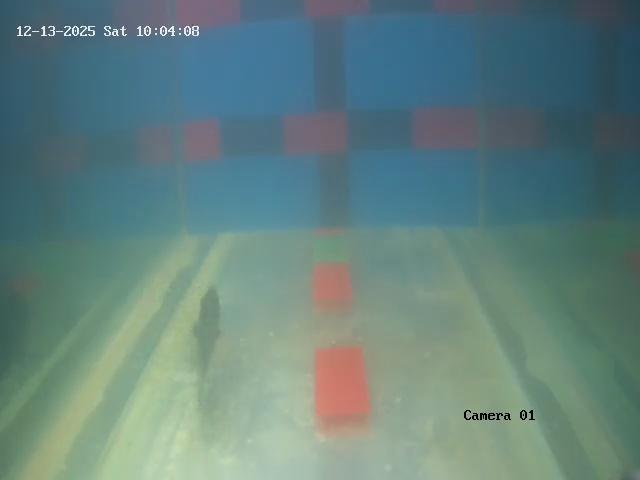fish: (181, 280, 228, 386)
